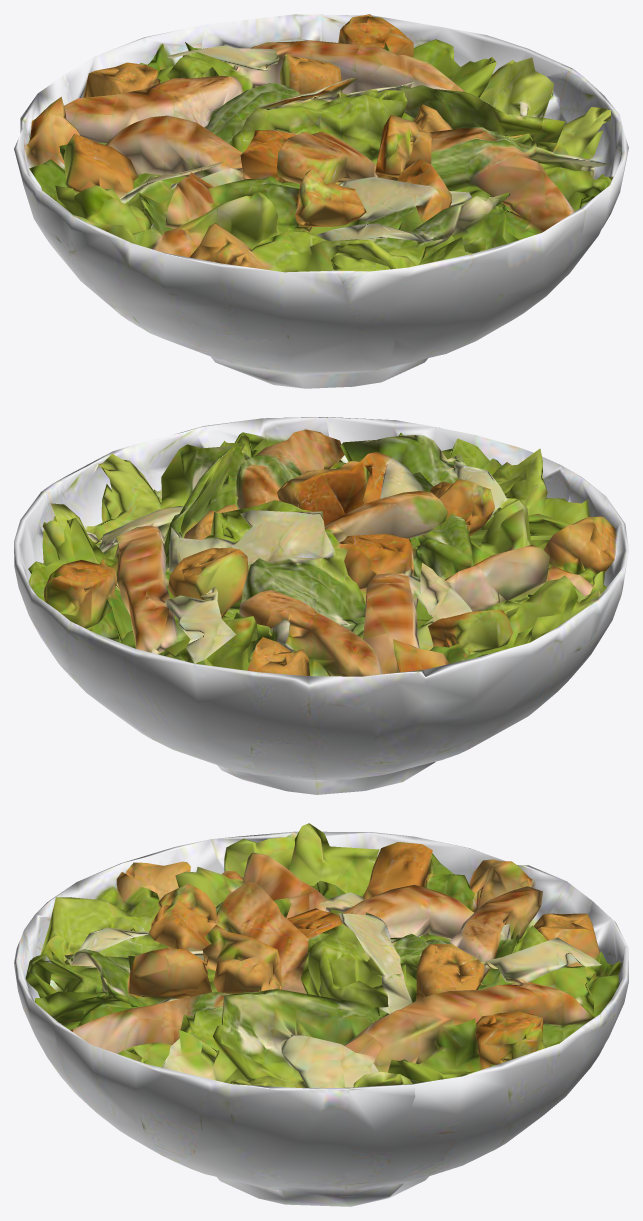
File: caesar-salad-ar.glb
3 views of the same model, one above another, from view 1: azimuth 30°, elevation 25°; view 2: azimuth 150°, elevation 25°; view 3: azimuth 270°, elevation 25° (orthographic).
Parts seen in each view (by area): view 1: mesh_node; view 2: mesh_node; view 3: mesh_node.
Part boxes in pixels (box(x1,y1,x2,y2)): mesh_node: box(14, 14, 628, 388); mesh_node: box(14, 417, 628, 794); mesh_node: box(14, 823, 628, 1206).
Bounding box in the file's own units: 0.2392 × 0.105 × 0.2392.
Materials: 1 (1 with a texture image).
